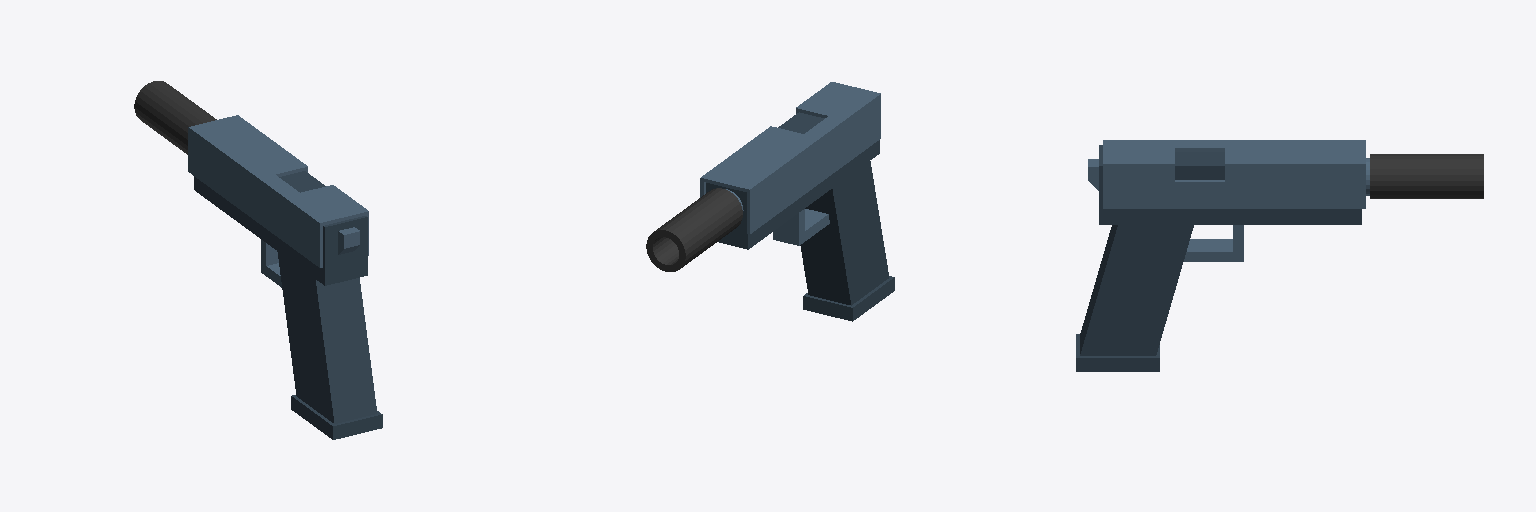
File: pistolSilencer.obj
The picture shows the model from 3 angles: view 1: azimuth 30°, elevation 25°; view 2: azimuth 150°, elevation 25°; view 3: azimuth 270°, elevation 25°; orthographic projection.
Parts seen in each view (by area): view 1: Group; view 2: Group; view 3: Group.
Part boxes in pixels (left/top/right/bottom): Group: left=134, top=81, right=382, bottom=439; Group: left=646, top=82, right=894, bottom=321; Group: left=1076, top=140, right=1483, bottom=371.
Size of the model in its own units: 0.0574 by 0.2297 by 0.4096.